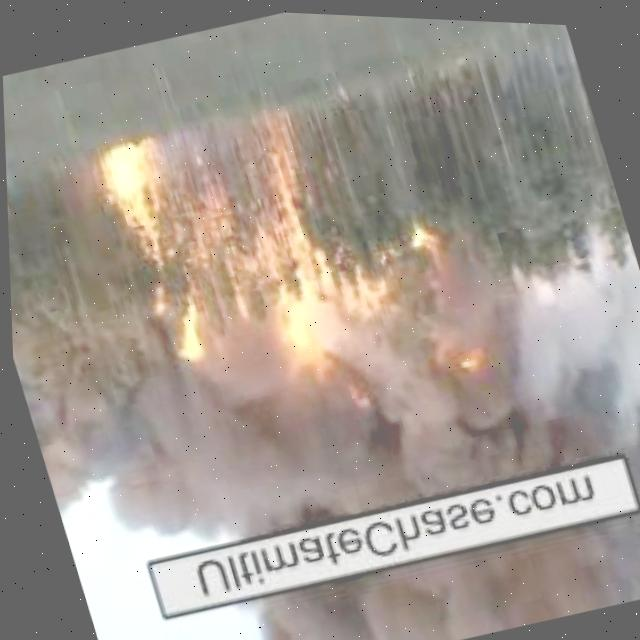Fire: (65, 236, 640, 580), (92, 97, 346, 387), (224, 472, 640, 640), (323, 205, 489, 404)
